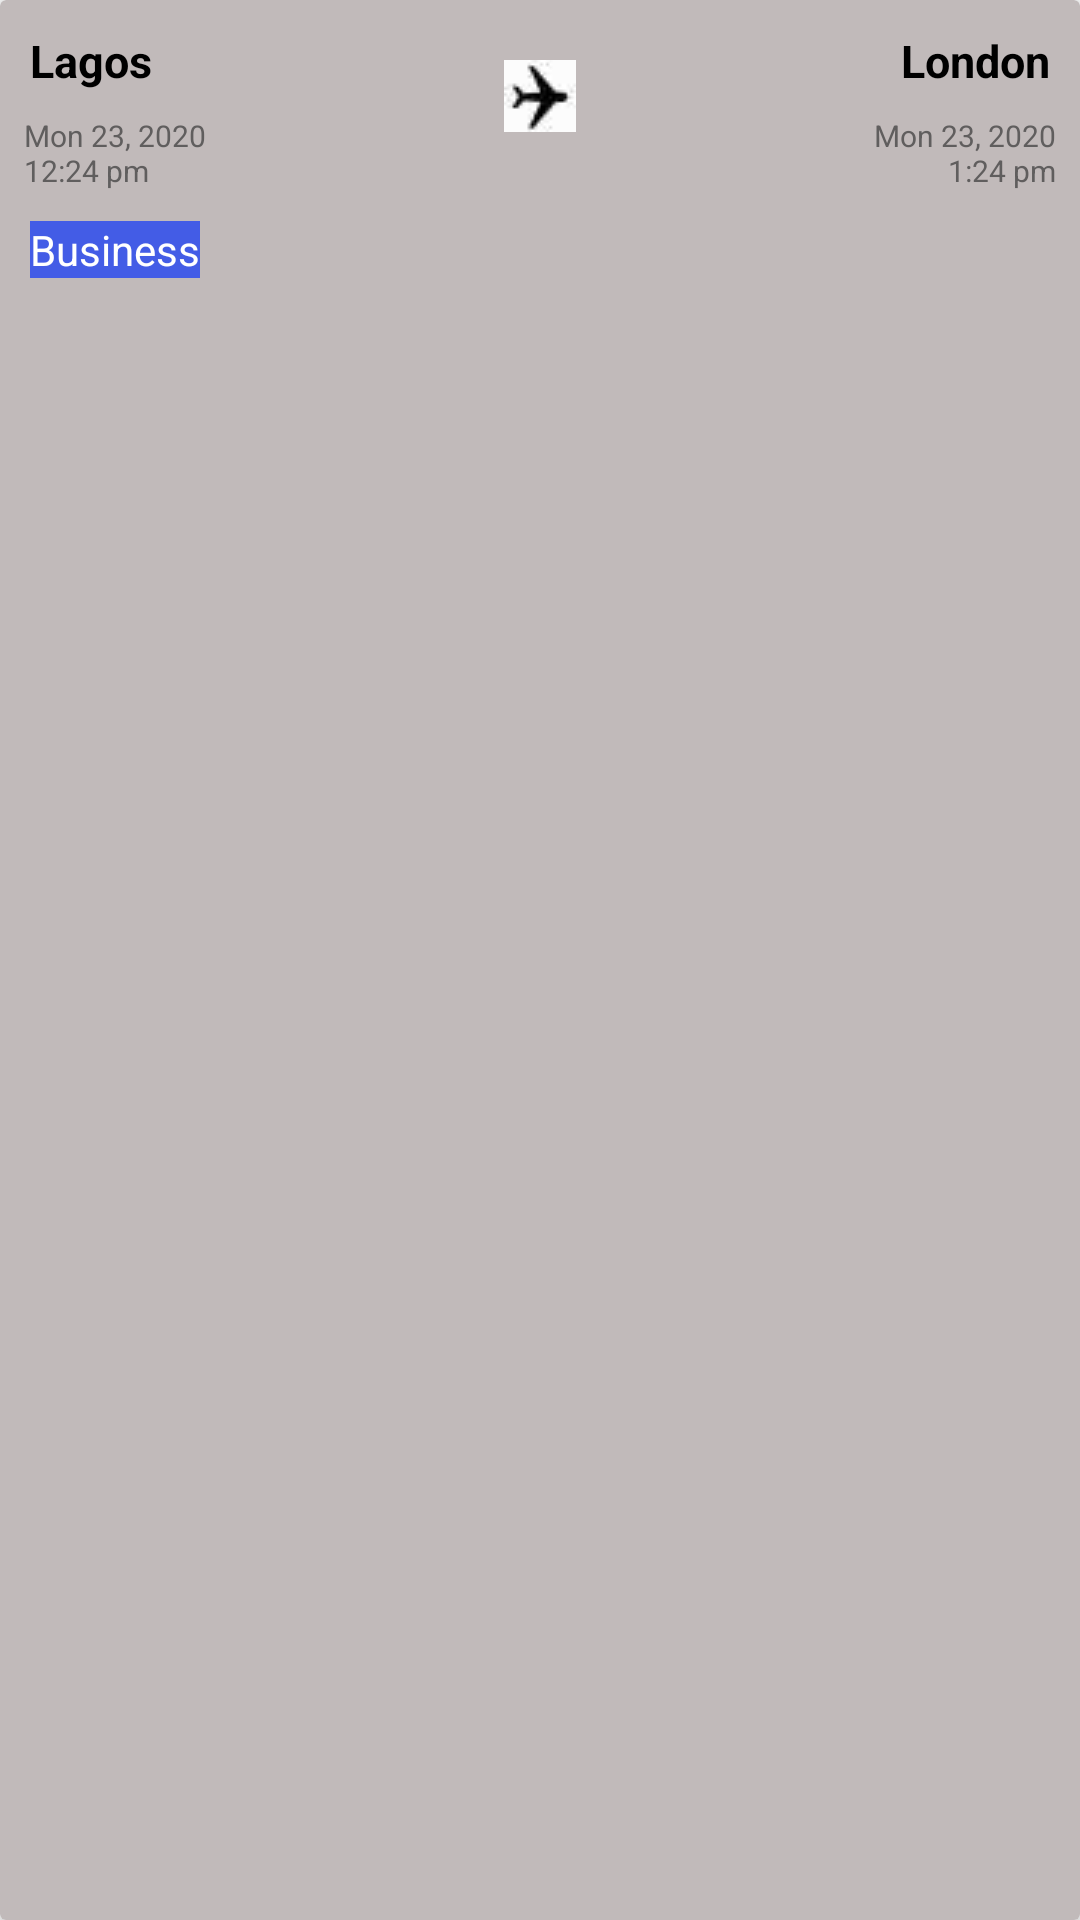

Icon click points for this 1080*1920 phone screenshot, format [x,y]:
plane: [540,96]
